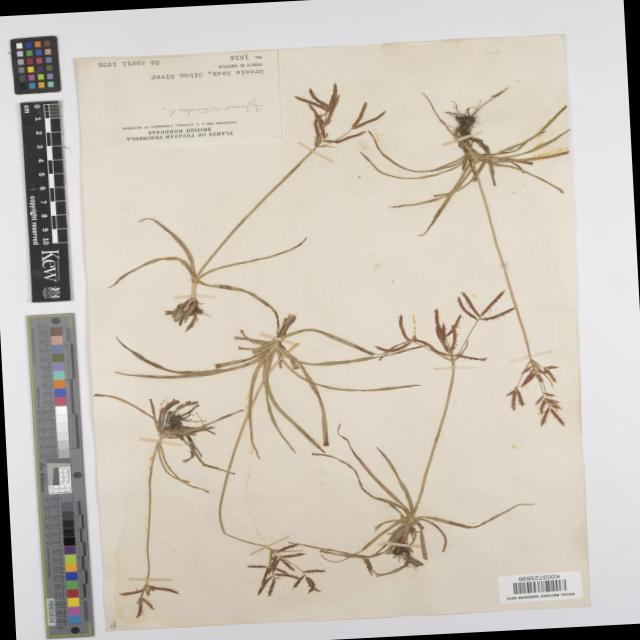cyperus: (368, 284, 522, 376), (290, 78, 388, 162), (494, 351, 577, 436), (242, 532, 331, 602), (120, 574, 180, 622)
